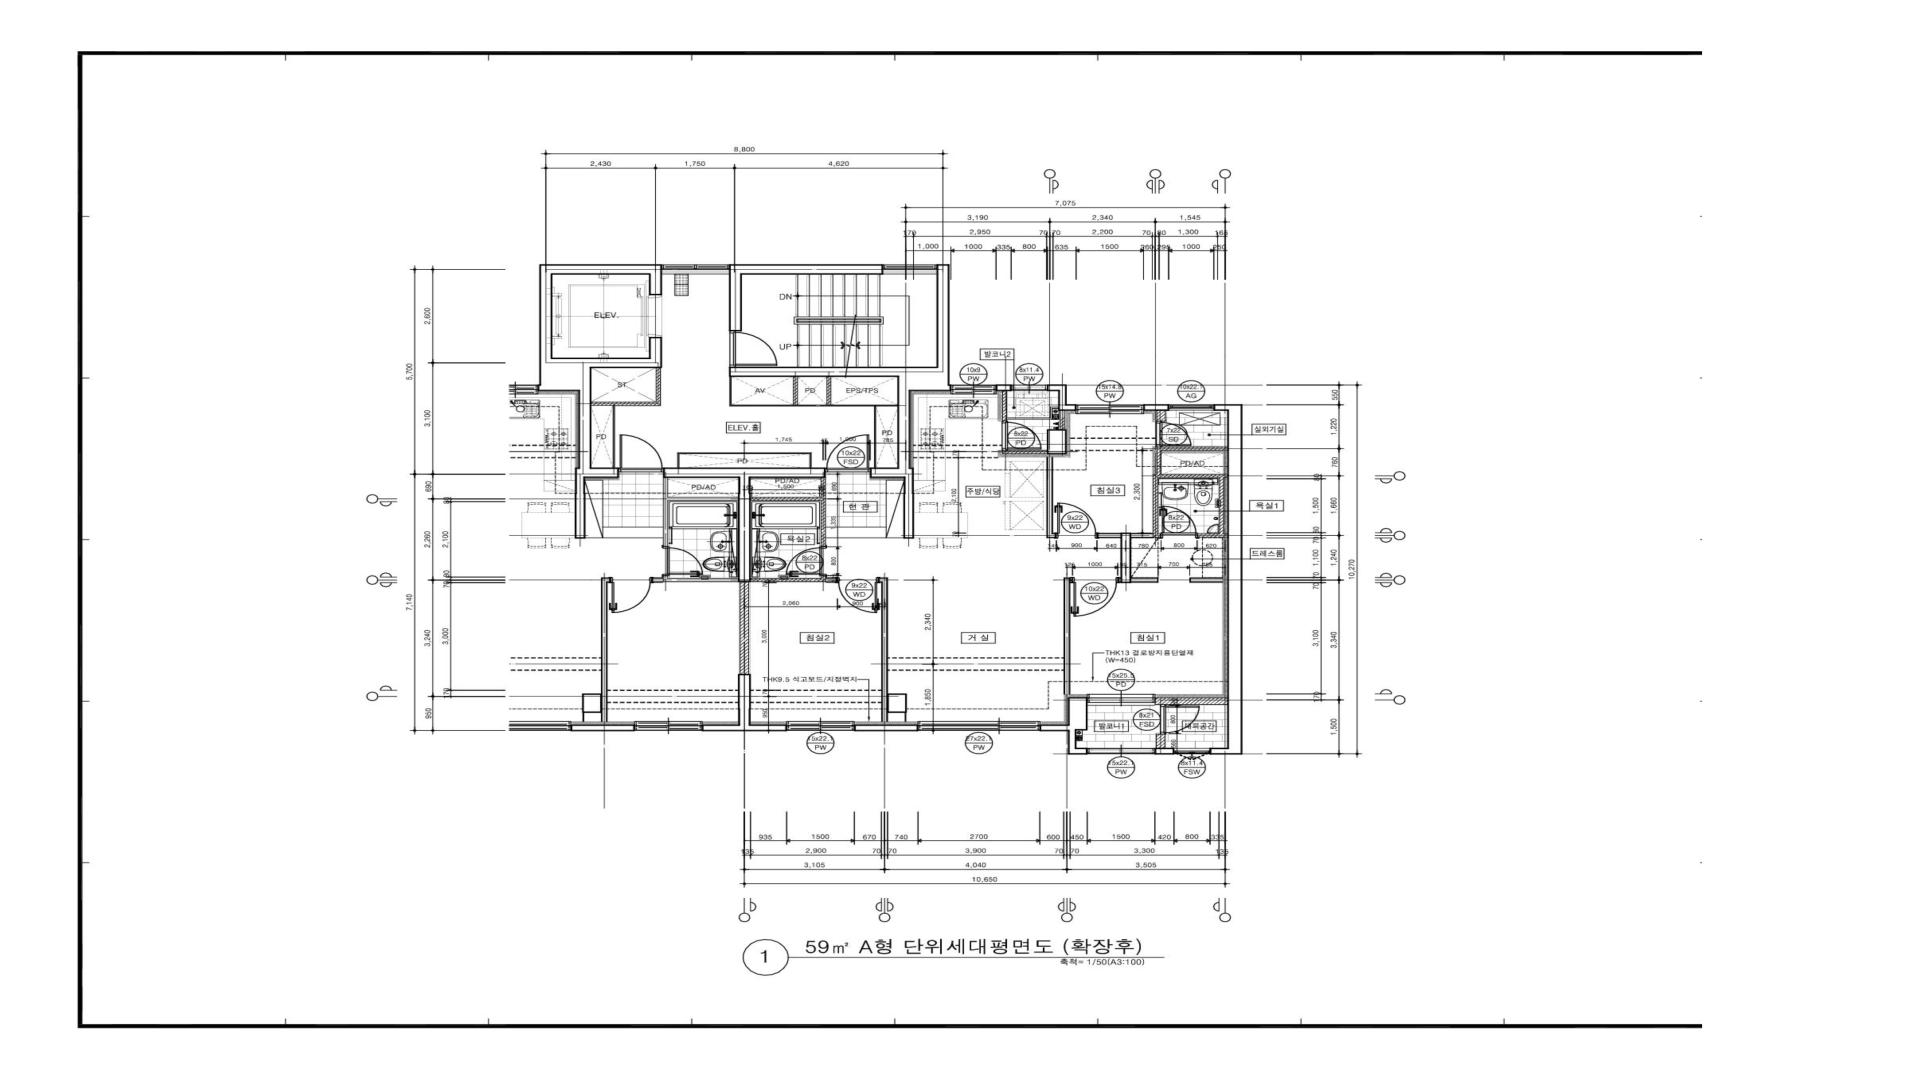door: (1069, 578, 1121, 617), (825, 434, 870, 475), (729, 331, 778, 367), (1056, 502, 1098, 539), (836, 578, 880, 613), (1160, 506, 1199, 538), (1001, 421, 1042, 450), (786, 547, 827, 576), (1160, 705, 1200, 735), (1155, 422, 1192, 447)
wall: (1228, 404, 1242, 748), (539, 357, 662, 392), (738, 477, 750, 724), (897, 392, 914, 538), (729, 367, 949, 377), (1040, 698, 1088, 732), (729, 264, 882, 274), (663, 468, 825, 477), (936, 264, 949, 367), (880, 578, 889, 721), (539, 264, 662, 274), (539, 274, 553, 357), (579, 392, 592, 467), (897, 377, 951, 392), (1064, 578, 1071, 695), (729, 274, 742, 331), (1047, 458, 1056, 538), (702, 724, 786, 732), (1121, 533, 1131, 583), (889, 694, 907, 721), (855, 724, 918, 732), (1047, 430, 1067, 455), (1153, 477, 1160, 538), (1155, 698, 1228, 704), (750, 576, 836, 582), (1068, 732, 1087, 754), (575, 468, 618, 477), (820, 477, 825, 547), (870, 467, 898, 479), (1220, 477, 1225, 534), (1153, 473, 1228, 477), (649, 336, 662, 357), (649, 274, 662, 295), (750, 497, 820, 501), (592, 402, 661, 406), (1162, 447, 1228, 451), (732, 405, 897, 406), (1211, 748, 1242, 754), (1058, 384, 1067, 405), (1189, 578, 1224, 583), (1002, 450, 1047, 454), (1155, 447, 1162, 473), (680, 452, 810, 454), (1145, 405, 1170, 411), (613, 406, 616, 467), (874, 406, 877, 467), (1002, 392, 1007, 421), (793, 377, 798, 405), (1131, 578, 1158, 583), (657, 368, 661, 402), (1155, 748, 1174, 754), (1059, 411, 1065, 430), (1156, 735, 1166, 748), (1098, 533, 1121, 538), (1199, 534, 1228, 538), (1058, 405, 1075, 411), (1131, 533, 1153, 538), (827, 377, 831, 405), (1155, 411, 1166, 421), (1213, 404, 1228, 410), (997, 385, 1011, 392), (1047, 384, 1058, 392), (729, 377, 732, 406), (676, 452, 680, 468), (810, 452, 812, 467)
window: (918, 721, 1040, 732), (1088, 694, 1155, 705), (662, 265, 729, 274), (787, 721, 855, 731), (1076, 405, 1143, 414), (882, 265, 936, 274), (1087, 748, 1155, 754), (951, 385, 997, 394), (1174, 748, 1211, 754), (1170, 405, 1213, 410), (1011, 385, 1047, 390)
